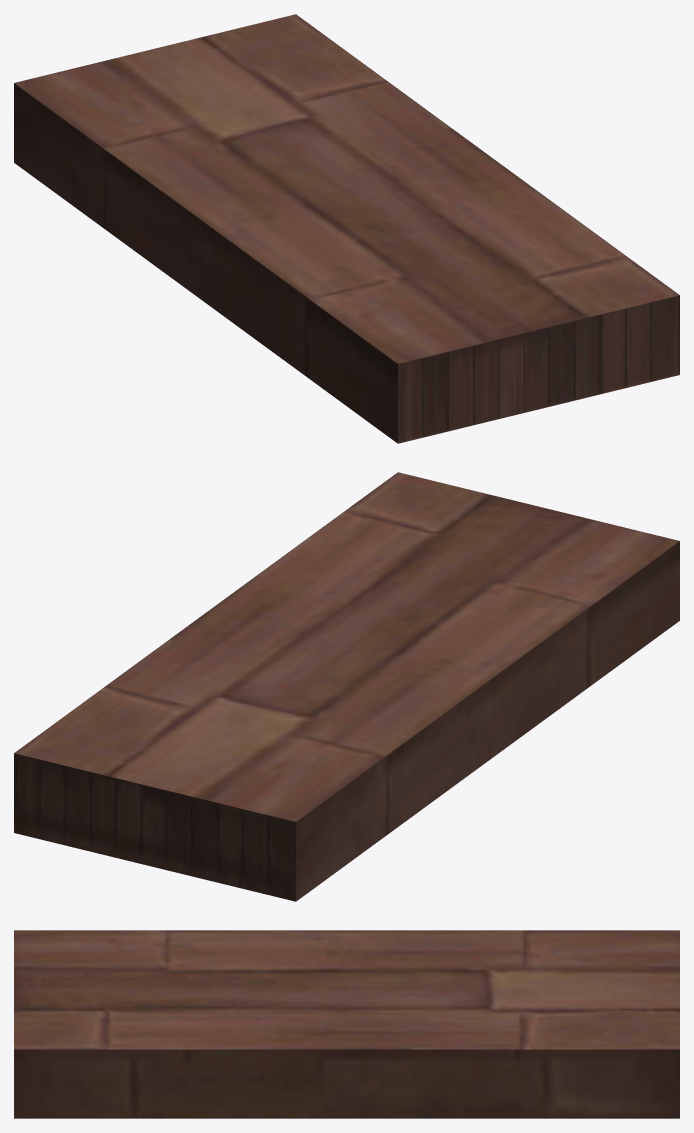
Rendered from woodBlock (2).fbx.
3 renders of one model, top to bottom at view 1: azimuth 30°, elevation 25°; view 2: azimuth 150°, elevation 25°; view 3: azimuth 270°, elevation 25°, orthographic. The views are drawn at different scales.
Parts seen in each view (by area): view 1: woodBlock (2); view 2: woodBlock (2); view 3: woodBlock (2).
Part boxes in pixels (left/top/right/bottom): woodBlock (2): left=14, top=14, right=679, bottom=443; woodBlock (2): left=14, top=472, right=679, bottom=901; woodBlock (2): left=14, top=930, right=679, bottom=1118.
Size of the model in its own units: 23.85 by 6.44 by 56.26.
